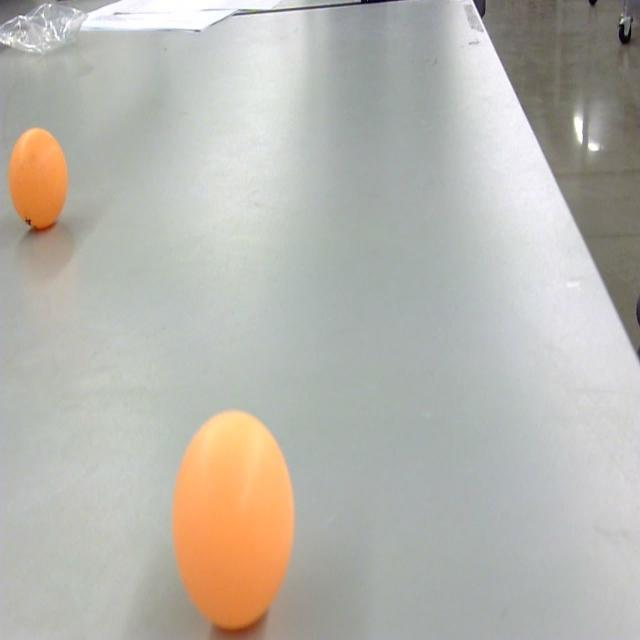ball: (170, 410, 297, 633), (7, 120, 70, 241)
